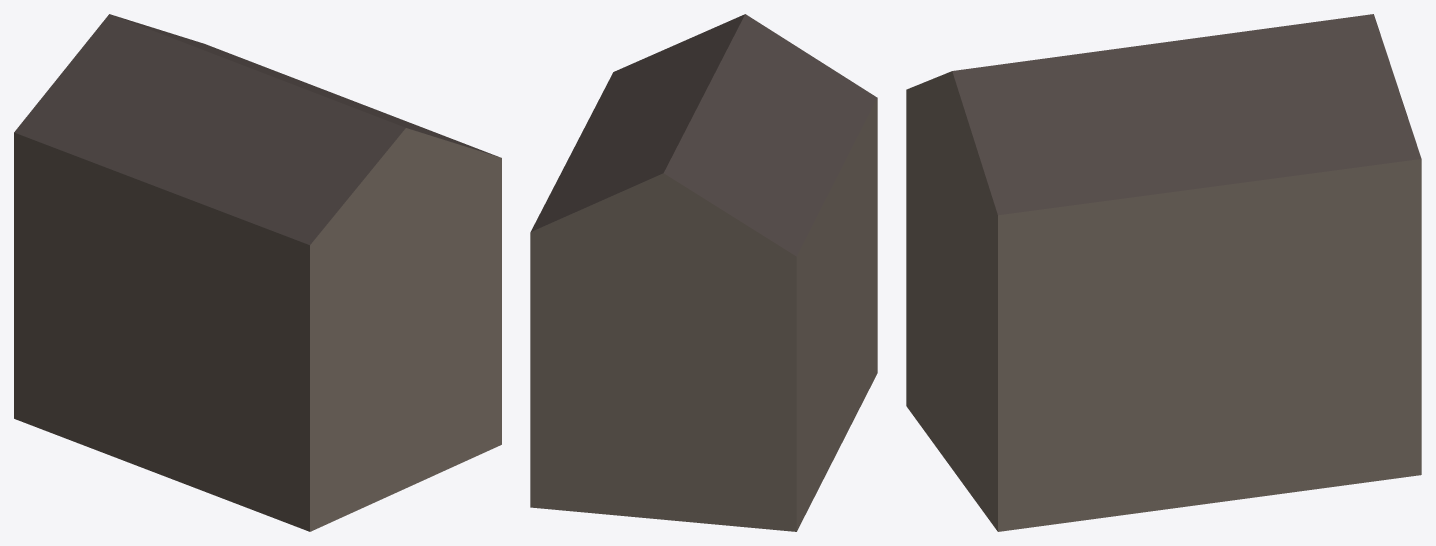
3 views of the same model, side by side, from view 1: azimuth 30°, elevation 25°; view 2: azimuth 150°, elevation 25°; view 3: azimuth 270°, elevation 25° (orthographic). The views are drawn at different scales.
Parts seen in each view (by area): view 1: HP-w1198893551; view 2: HP-w1198893551; view 3: HP-w1198893551.
Part boxes in pixels (left/top/right/bottom): HP-w1198893551: left=14, top=14, right=501, bottom=531; HP-w1198893551: left=530, top=14, right=877, bottom=531; HP-w1198893551: left=906, top=14, right=1421, bottom=531.
Bounding box in the file's own units: 7.44 × 7.55 × 8.86.
